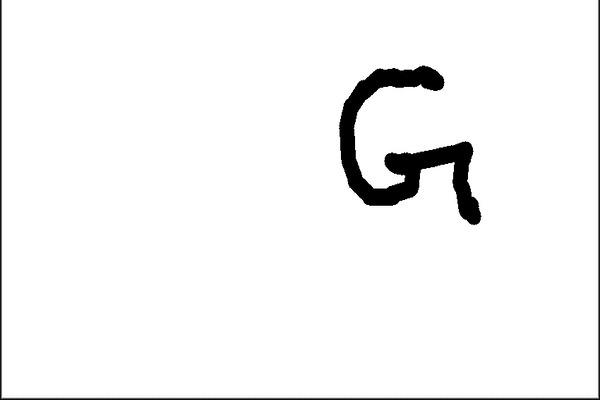G: (332, 62, 485, 231)
